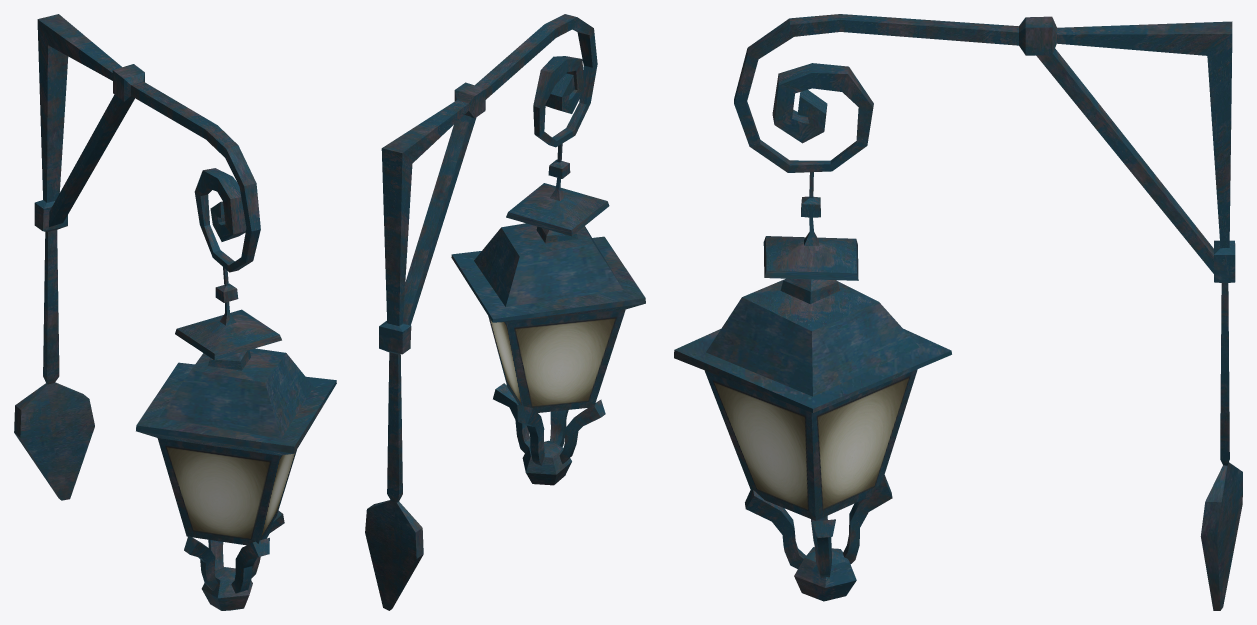
3 renders of one model, left to right at view 1: azimuth 30°, elevation 25°; view 2: azimuth 150°, elevation 25°; view 3: azimuth 270°, elevation 25°, orthographic. The views are drawn at different scales.
Visible parts, largest first — view 1: lantern_c.1; view 2: lantern_c.1; view 3: lantern_c.1.
Boxes of the visible parts, x1,y1,x2,y2 form: lantern_c.1: (14,14,336,610); lantern_c.1: (365,14,645,610); lantern_c.1: (674,14,1242,610).
Bounding box in the file's own units: 0.00746 × 0.0174 × 0.0153.
1 material, 1 textured.
